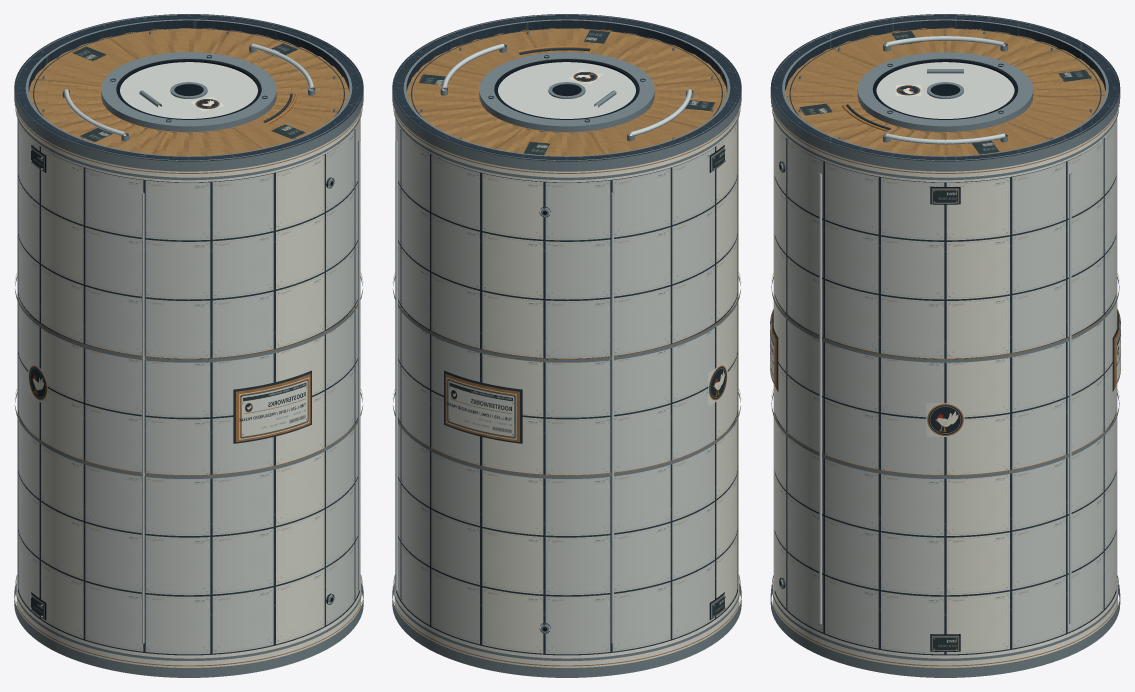
Rendered from RW_TUBL_250.obj.
3 renders of one model, left to right at view 1: azimuth 30°, elevation 25°; view 2: azimuth 150°, elevation 25°; view 3: azimuth 270°, elevation 25°, orthographic.
Visible parts, largest first — view 1: RW_Passage_cladding, RW_Passage_cladding_white, RW_Passage_graphite, RW_Passage_steel, RW_Passage_hubblanket, RW_Passage_white, RW_Passage_ceramic, RW_Passage_rail, RW_Passage_bronze, RW_Passage_tublabel, RW_Passage_black, RW_Passage_detail (+1 smaller); view 2: RW_Passage_cladding, RW_Passage_cladding_white, RW_Passage_graphite, RW_Passage_steel, RW_Passage_hubblanket, RW_Passage_white, RW_Passage_ceramic, RW_Passage_rail, RW_Passage_bronze, RW_Passage_tublabel, RW_Passage_black, RW_Passage_detail (+1 smaller); view 3: RW_Passage_cladding, RW_Passage_cladding_white, RW_Passage_graphite, RW_Passage_steel, RW_Passage_hubblanket, RW_Passage_white, RW_Passage_ceramic, RW_Passage_rail, RW_Passage_bronze, RW_Passage_detail, RW_Passage_black, RW_Passage_crest (+1 smaller).
Boxes of the visible parts, left/top/right/bottom form: RW_Passage_cladding: left=17, top=118, right=360, bottom=654; RW_Passage_cladding_white: left=41, top=147, right=324, bottom=644; RW_Passage_graphite: left=14, top=14, right=363, bottom=655; RW_Passage_steel: left=14, top=15, right=363, bottom=677; RW_Passage_hubblanket: left=29, top=28, right=348, bottom=156; RW_Passage_white: left=16, top=14, right=361, bottom=667; RW_Passage_ceramic: left=120, top=62, right=257, bottom=118; RW_Passage_rail: left=64, top=43, right=360, bottom=643; RW_Passage_bronze: left=14, top=82, right=363, bottom=666; RW_Passage_tublabel: left=239, top=377, right=309, bottom=439; RW_Passage_black: left=31, top=59, right=333, bottom=619; RW_Passage_detail: left=31, top=43, right=306, bottom=617; RW_Passage_cladding: left=395, top=118, right=738, bottom=654; RW_Passage_cladding_white: left=482, top=122, right=736, bottom=653; RW_Passage_graphite: left=392, top=14, right=741, bottom=655; RW_Passage_steel: left=392, top=15, right=741, bottom=677; RW_Passage_hubblanket: left=407, top=28, right=726, bottom=156; RW_Passage_white: left=394, top=14, right=739, bottom=667; RW_Passage_ceramic: left=498, top=62, right=635, bottom=118; RW_Passage_rail: left=395, top=43, right=691, bottom=643; RW_Passage_bronze: left=392, top=46, right=741, bottom=666; RW_Passage_tublabel: left=446, top=377, right=516, bottom=439; RW_Passage_black: left=494, top=59, right=724, bottom=631; RW_Passage_detail: left=418, top=29, right=724, bottom=617; RW_Passage_cladding: left=773, top=118, right=1117, bottom=654; RW_Passage_cladding_white: left=773, top=118, right=1117, bottom=654; RW_Passage_graphite: left=770, top=14, right=1120, bottom=655; RW_Passage_steel: left=770, top=15, right=1120, bottom=677; RW_Passage_hubblanket: left=785, top=27, right=1105, bottom=156; RW_Passage_white: left=773, top=14, right=1117, bottom=667; RW_Passage_ceramic: left=876, top=62, right=1014, bottom=118; RW_Passage_rail: left=819, top=36, right=1071, bottom=624; RW_Passage_bronze: left=771, top=82, right=1119, bottom=666; RW_Passage_detail: left=799, top=30, right=1091, bottom=650; RW_Passage_black: left=779, top=59, right=1018, bottom=651; RW_Passage_crest: left=895, top=85, right=964, bottom=436.
Bounding box in the file's own units: 2.48 × 4 × 2.46.
Materials: 13 (13 with a texture image).
